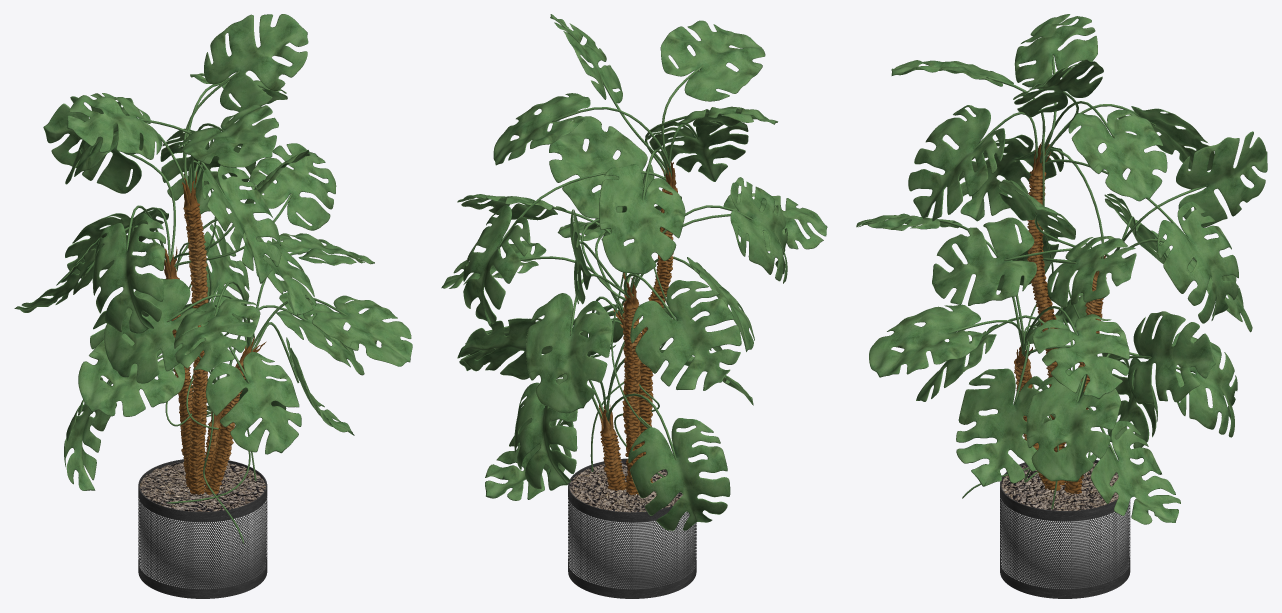
Rendered from house_plant_optimized.glb.
The picture shows the model from 3 angles, left to right: view 1: azimuth 30°, elevation 25°; view 2: azimuth 150°, elevation 25°; view 3: azimuth 270°, elevation 25°; orthographic projection.
Parts seen in each view (by area): view 1: Object_5, Object_7, Object_11, Object_4, Object_12; view 2: Object_5, Object_7, Object_11, Object_4, Object_12; view 3: Object_5, Object_7, Object_11, Object_4, Object_12.
Boxes of the visible parts, x1,y1,x2,y2 form: Object_5: (14, 14, 412, 543); Object_7: (138, 458, 267, 598); Object_11: (139, 501, 265, 589); Object_4: (164, 171, 266, 495); Object_12: (139, 462, 265, 511); Object_5: (441, 14, 827, 530); Object_7: (568, 458, 696, 598); Object_11: (569, 501, 695, 589); Object_4: (599, 157, 677, 495); Object_12: (569, 461, 682, 512); Object_5: (856, 14, 1267, 524); Object_7: (1000, 460, 1130, 598); Object_11: (1001, 499, 1129, 589); Object_4: (1014, 142, 1106, 493); Object_12: (1001, 462, 1118, 510).
Size of the model in its own units: 5.06 by 8.17 by 5.6.
Materials: 5 (4 with a texture image).
